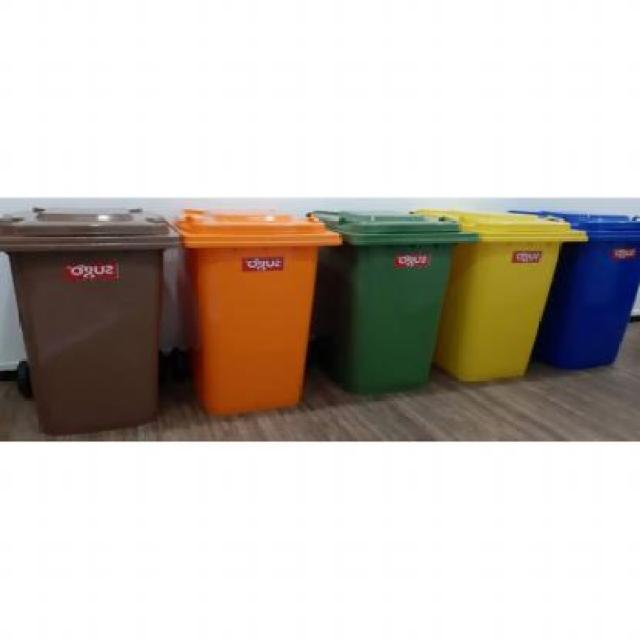garbage container: (1, 204, 168, 436), (171, 208, 326, 423)
